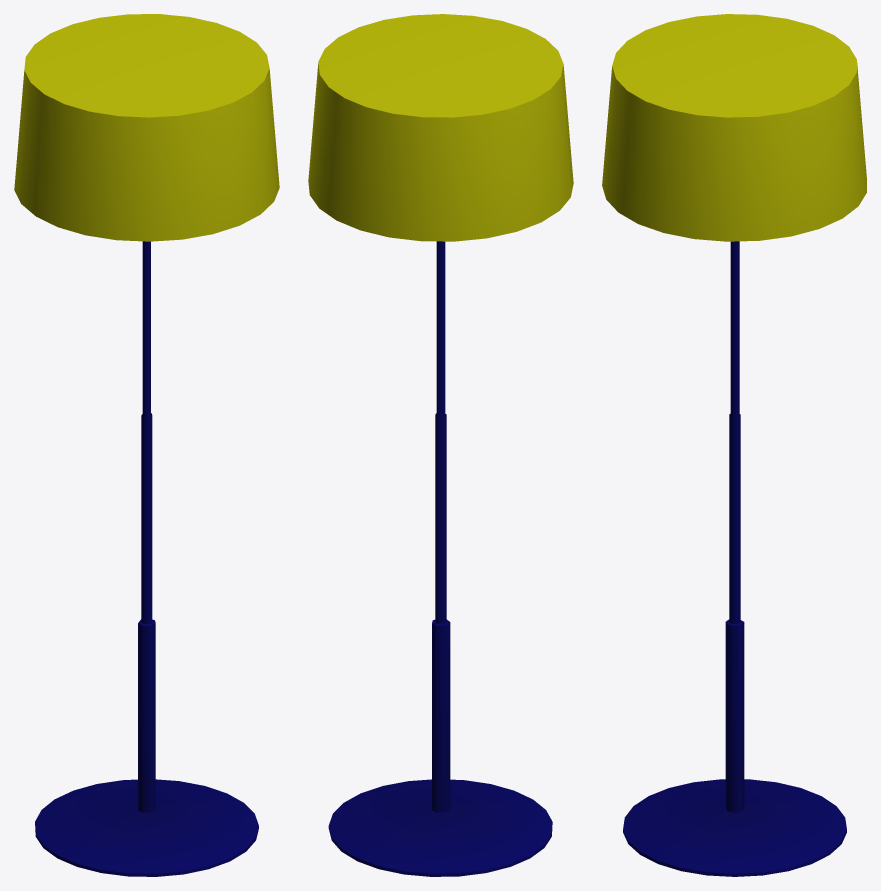
Rendered from DrumLamp001.glb.
3 views of the same model, side by side, from view 1: azimuth 30°, elevation 25°; view 2: azimuth 150°, elevation 25°; view 3: azimuth 270°, elevation 25° (orthographic).
Visible parts, largest first — view 1: DrumLamp001; view 2: DrumLamp001; view 3: DrumLamp001.
Part boxes in pixels (<box>): DrumLamp001: <box>14,14,279,876</box>; DrumLamp001: <box>308,14,573,876</box>; DrumLamp001: <box>602,14,866,876</box>.
Bounding box in the file's own units: 2.68 × 8.55 × 2.68.
